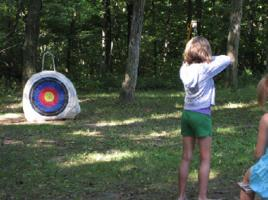person: (177, 35, 235, 200)
